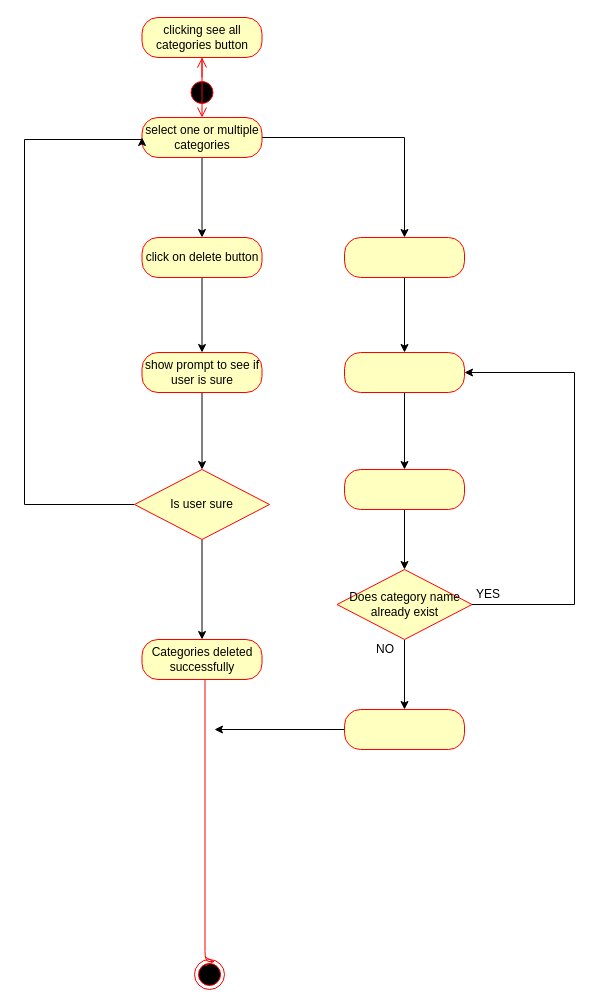
Image size: 600x1007. Some labels were removed from this diagram. The shapes that lost their labels are listed below. From the top down, each one's centre as x and y in pixels, then its label:
At point 404,257: "click on edit button".
At point 404,372: "get new category name".
At point 404,489: "select new category label".
At point 404,729: "Categories edited successfully".
